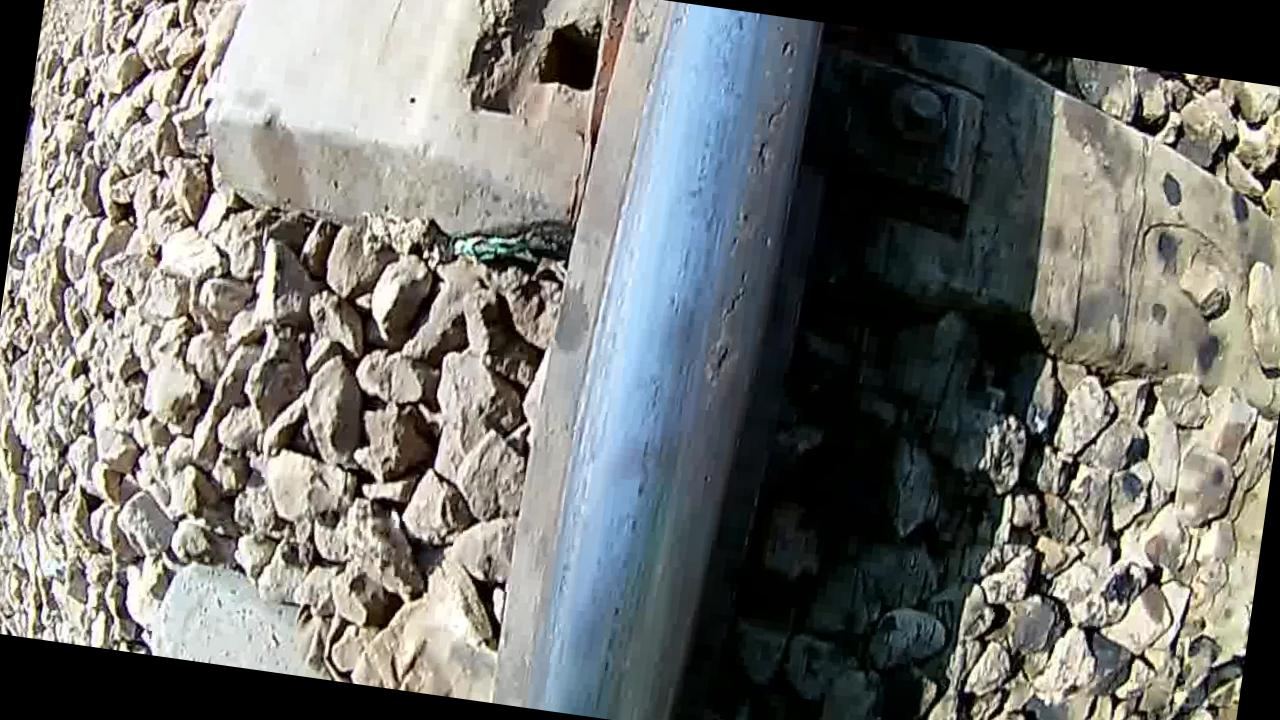crack: (569, 1, 823, 720)
